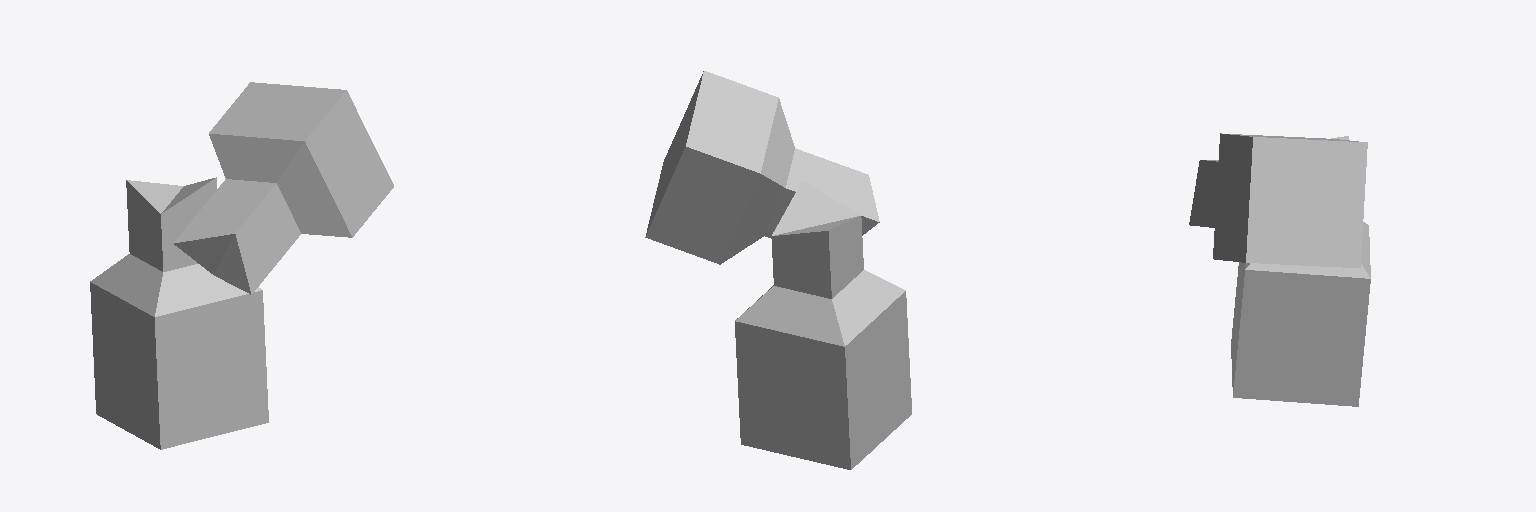
Rendered from column-destr_10.obj.
The picture shows the model from 3 angles: view 1: azimuth 30°, elevation 25°; view 2: azimuth 150°, elevation 25°; view 3: azimuth 270°, elevation 25°; orthographic projection.
Visible parts, largest first — view 1: (null); view 2: (null); view 3: (null).
Boxes of the visible parts, <box> form: (null): <box>90,82,393,449</box>; (null): <box>645,71,911,469</box>; (null): <box>1189,133,1370,406</box>.
Size of the model in its own units: 1.5 by 1.85 by 0.9717.